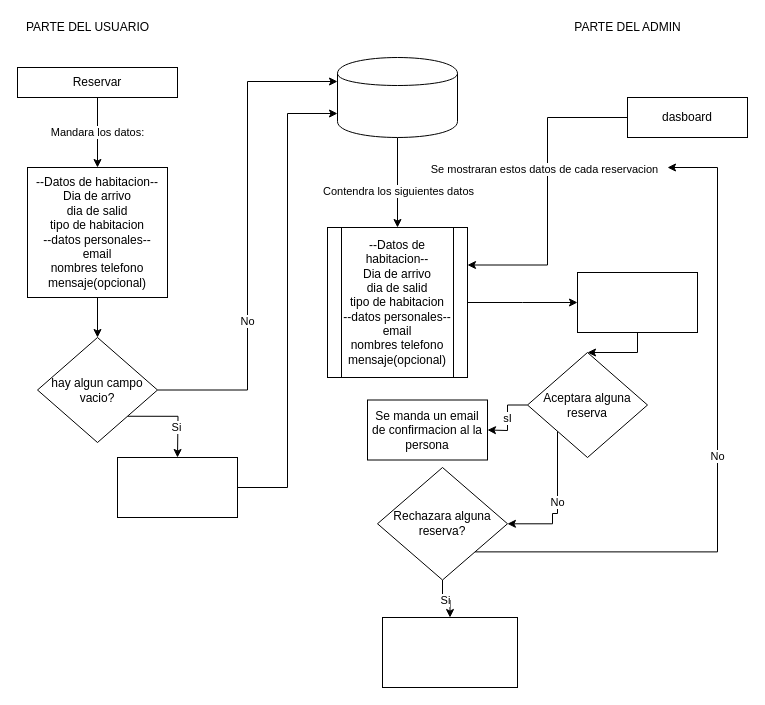
Some shapes in this 765 by 705 pixel diagram are drawn without their labels. Each missing label, with the centre of its shape:
base de datos: point 397,97
Se desplegara un recuadro para mandar un mensaje al usuario y explicar la razon: point 450,652
se despliega la ventana con todas las reservaciones y datos: point 637,302
Se manda elk dato como no ingresado pero no genera incongruencia: point 177,487
